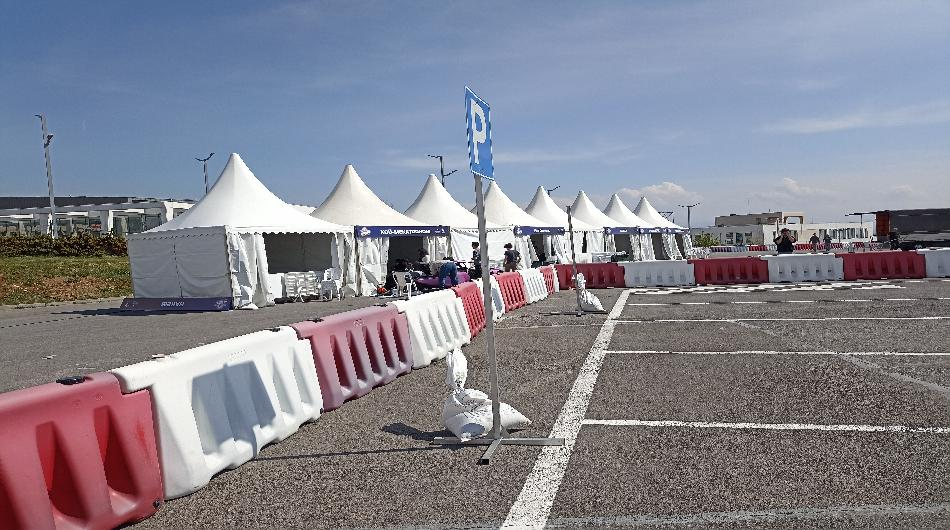park: (461, 83, 500, 181)
